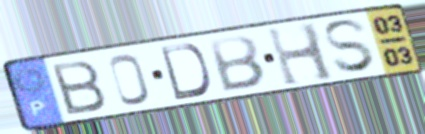0: (107, 52, 152, 108)
B: (206, 33, 268, 94), (47, 58, 109, 117)
D: (157, 41, 213, 102)
H: (264, 20, 339, 89)
S: (321, 16, 380, 75)
